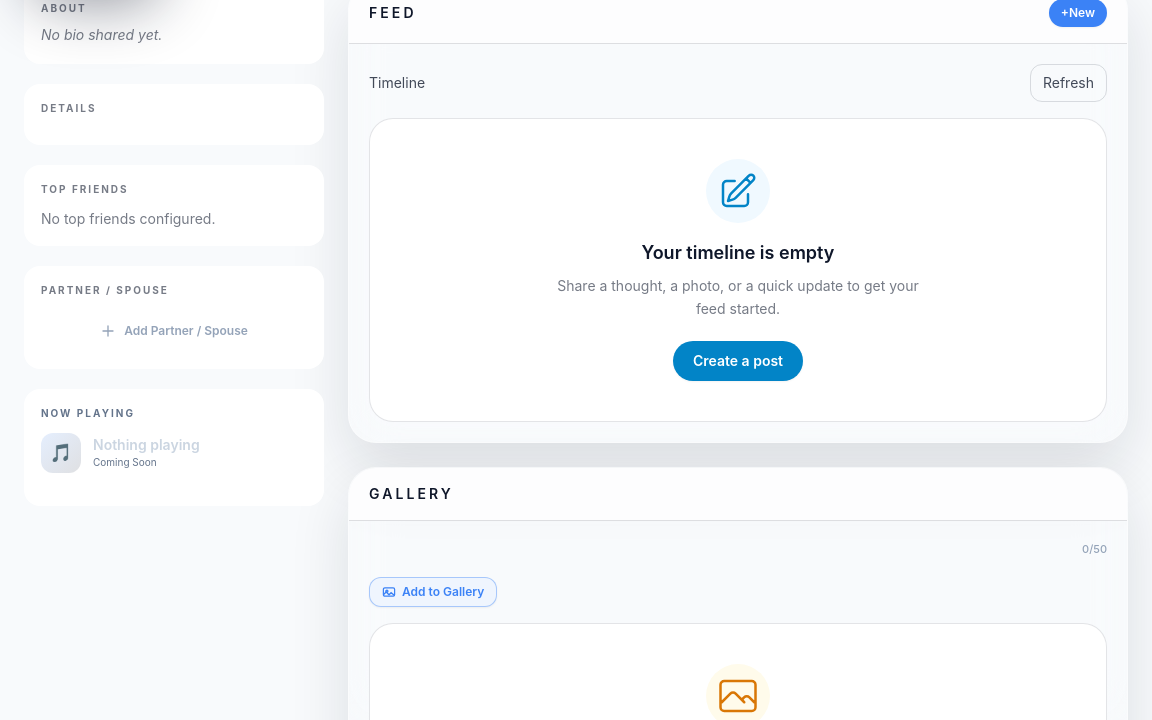
it: Social page hero background rendering › shows a 3-way Social/Secure/Public audience toggle and removes privacy chips
(page scrolled)
Click the button "Create a post" at (738, 360), box [673,340,803,380]
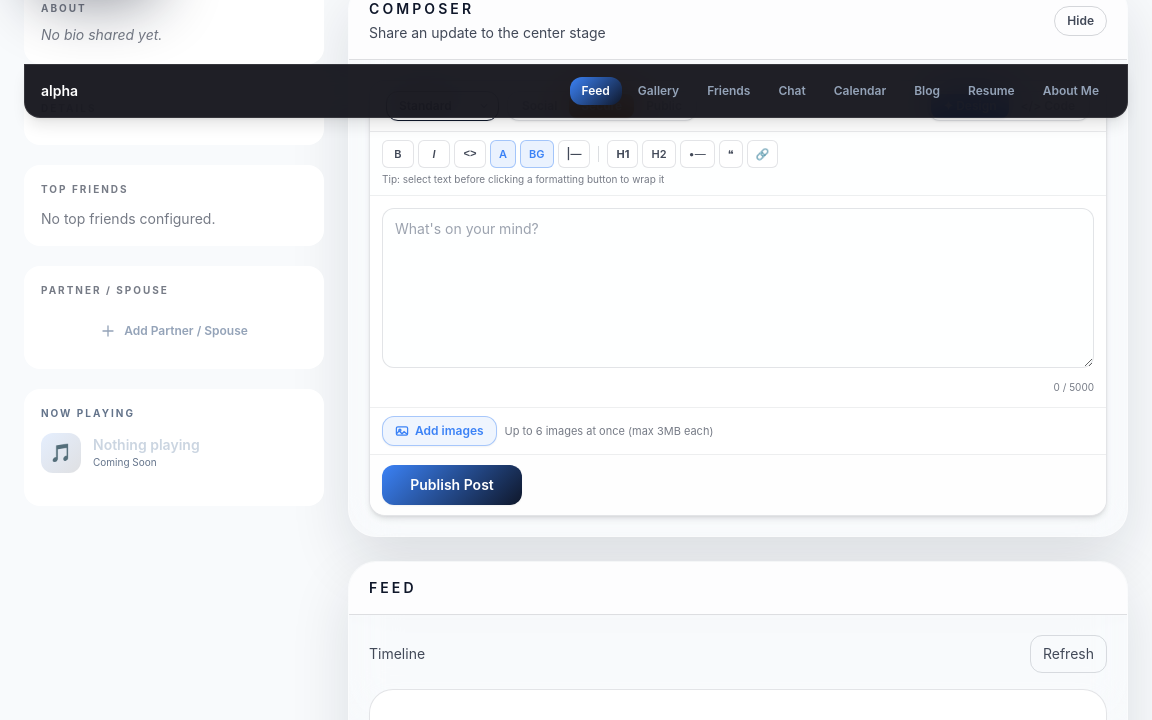
Result: the button with test id "composer-audience-social" is shown at [510,94,569,118]
Result: the button with test id "composer-audience-secure" is shown at [569,94,634,118]
Result: the button with test id "composer-audience-public" is shown at [634,94,694,118]
